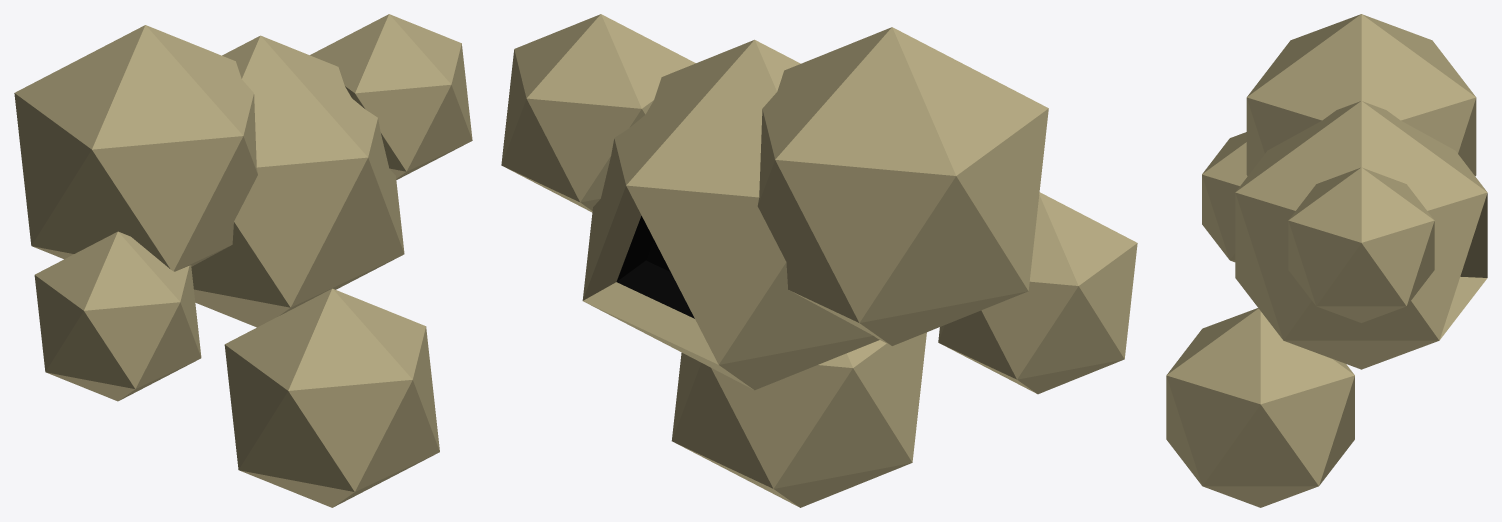
The model's file is library.fbx.
3 views of the same model, side by side, from view 1: azimuth 30°, elevation 25°; view 2: azimuth 150°, elevation 25°; view 3: azimuth 270°, elevation 25° (orthographic). The views are drawn at different scales.
Parts seen in each view (by area): view 1: Icosphere.004; view 2: Icosphere.004; view 3: Icosphere.004.
Part boxes in pixels (x1,y1,x2,y2): Icosphere.004: (14,14,472,507); Icosphere.004: (501,14,1137,507); Icosphere.004: (1166,14,1487,507).
Size of the model in its own units: 331 by 324 by 217.
